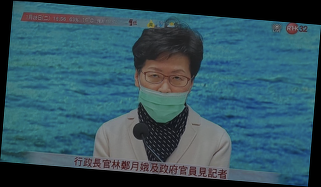mask_weared_incorrect: (138, 65, 191, 124)
